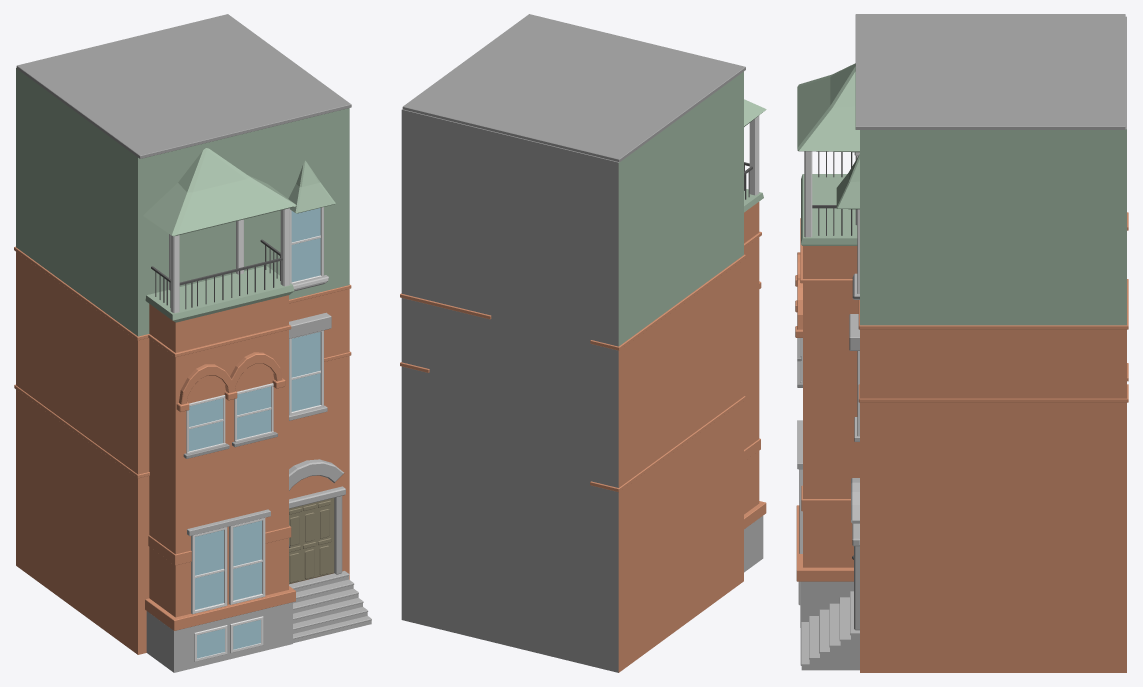
Rendered from BolunHouse3.fbx.
3 renders of one model, left to right at view 1: azimuth 30°, elevation 25°; view 2: azimuth 150°, elevation 25°; view 3: azimuth 270°, elevation 25°, orthographic. The views are drawn at different scales.
Parts seen in each view (by area): view 1: pCube388; view 2: pCube388; view 3: pCube388.
Part boxes in pixels (x1,y1,x2,y2): pCube388: (14, 14, 371, 672); pCube388: (400, 14, 766, 672); pCube388: (795, 14, 1128, 672).
Size of the model in its own units: 5.06 by 11.3 by 6.25.
